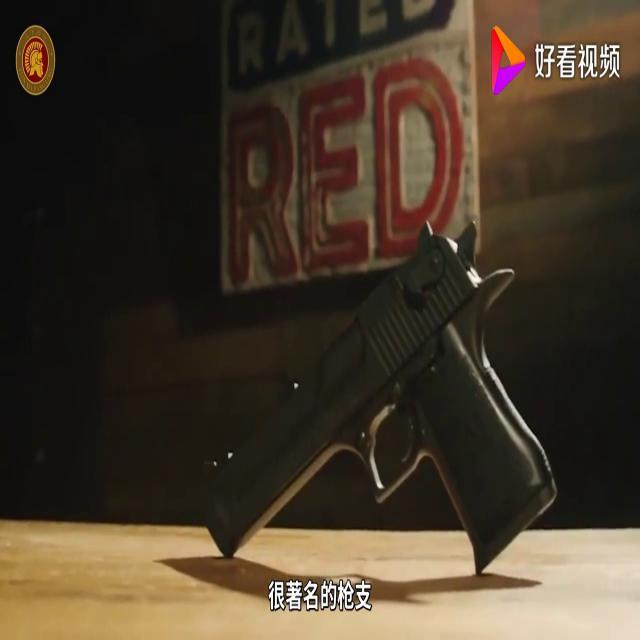gun-knife-thesis - v11 Yolov5 augmented: (199, 209, 557, 559)
